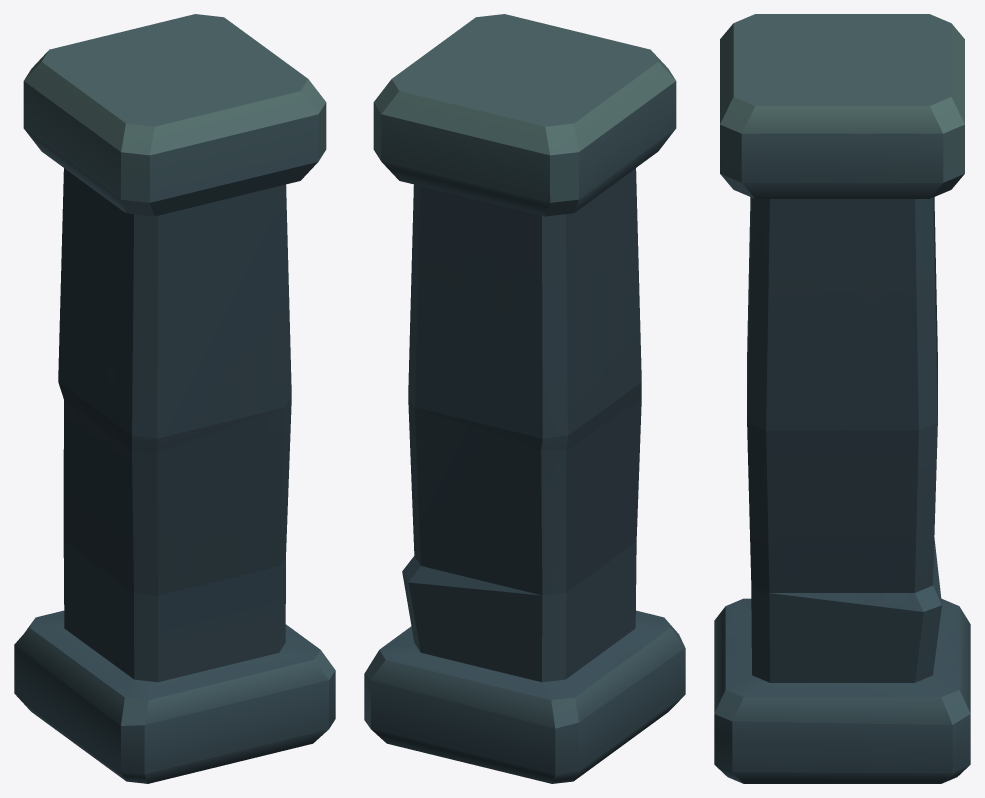
Rendered from pillar_short_slim_2.fbx.
The picture shows the model from 3 angles, left to right: view 1: azimuth 30°, elevation 25°; view 2: azimuth 150°, elevation 25°; view 3: azimuth 270°, elevation 25°; orthographic projection. The views are drawn at different scales.
Visible parts, largest first — view 1: pillar_short_slim_2; view 2: pillar_short_slim_2; view 3: pillar_short_slim_2.
Part boxes in pixels (box(x1,y1,x2,y2)): pillar_short_slim_2: box(14, 14, 335, 783); pillar_short_slim_2: box(364, 14, 685, 783); pillar_short_slim_2: box(714, 14, 970, 783).
Size of the model in its own units: 70.88 by 206 by 70.88.
